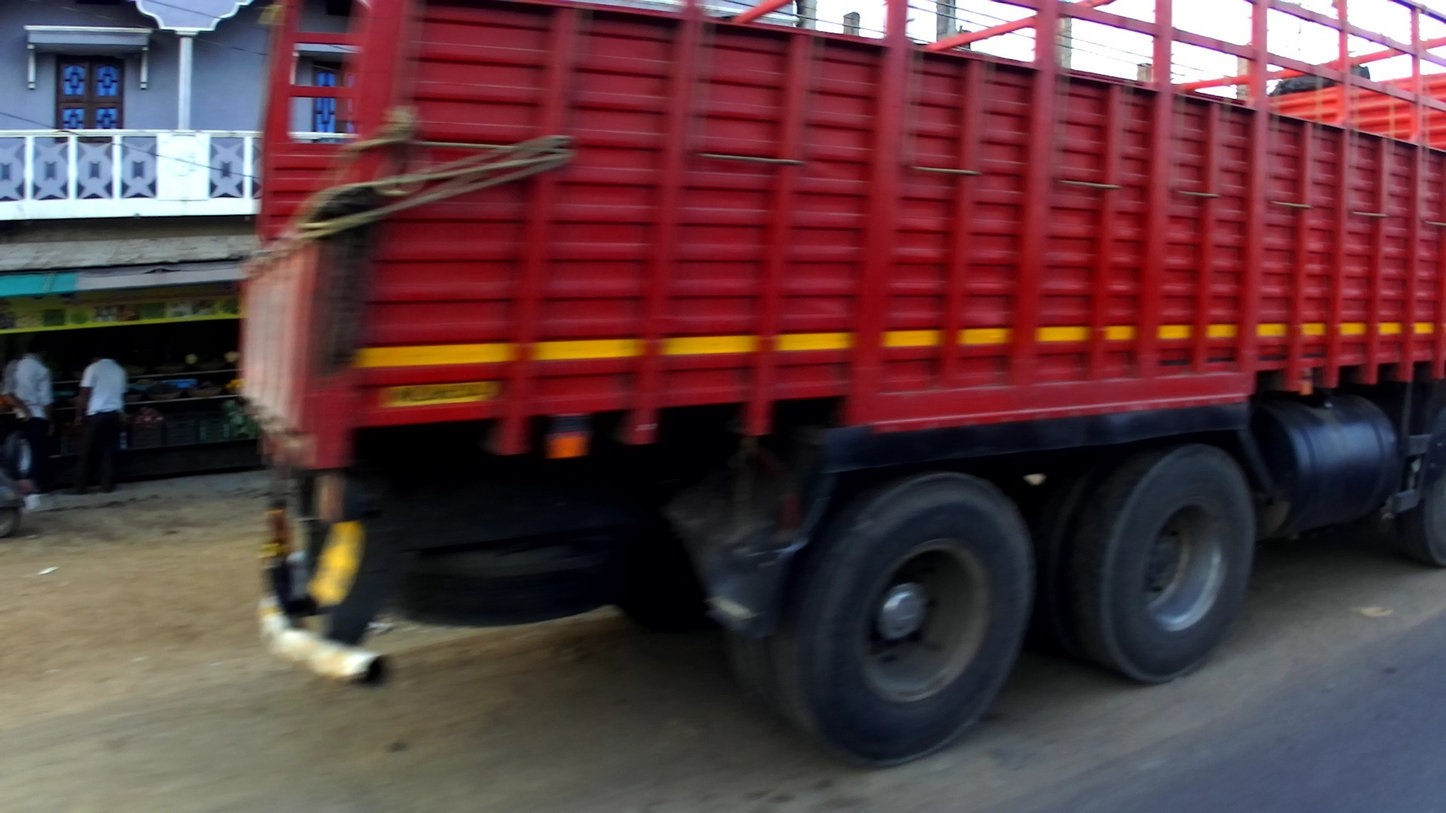motorcycle: (1, 430, 41, 539)
person: (1, 337, 59, 493), (72, 343, 129, 496)
truck: (227, 1, 1446, 772)
